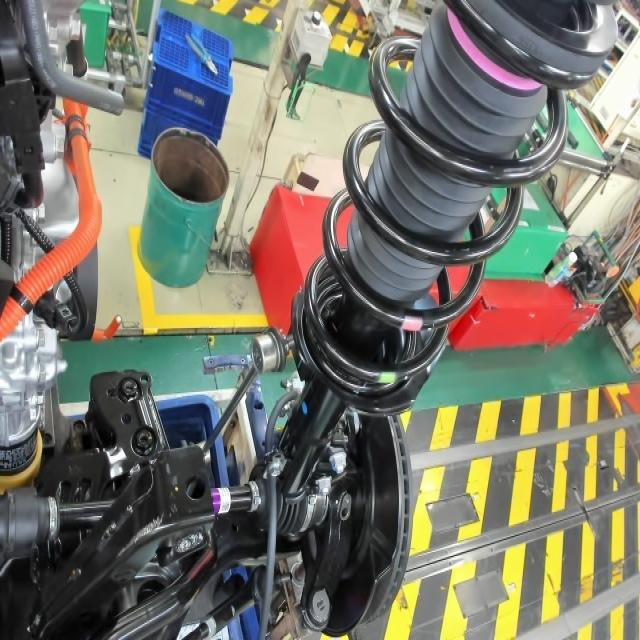Bumper-PK: (444, 6, 550, 100)
Drive Shaft-UG: (209, 484, 232, 520)
